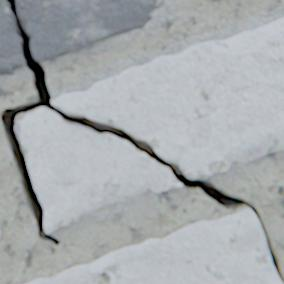brick: (22, 208, 282, 283)
broken_brick: (52, 17, 283, 177), (19, 107, 180, 231), (17, 0, 158, 61), (0, 0, 24, 74)
crack: (0, 0, 283, 283), (228, 156, 237, 164), (144, 185, 151, 191)
